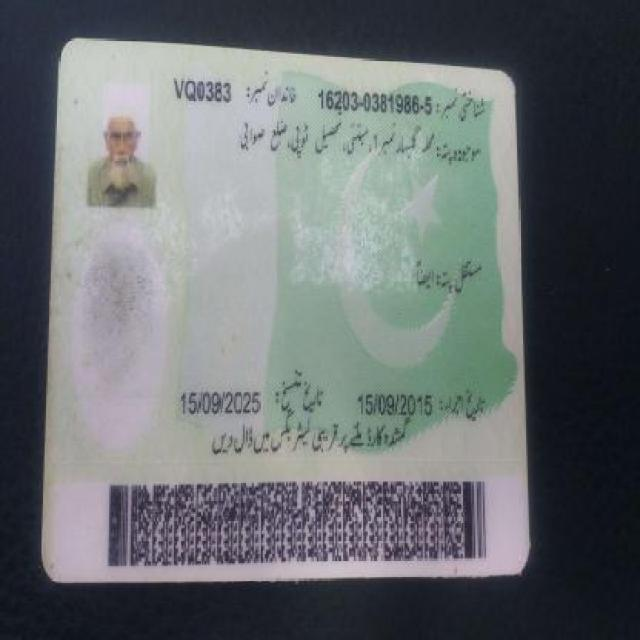Back: (48, 34, 535, 572)
